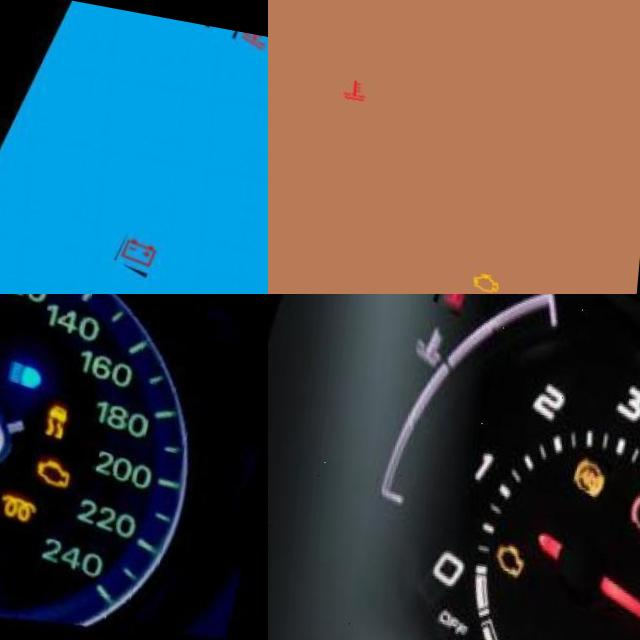High Engine Coolant Temperature: (345, 60, 376, 94)
